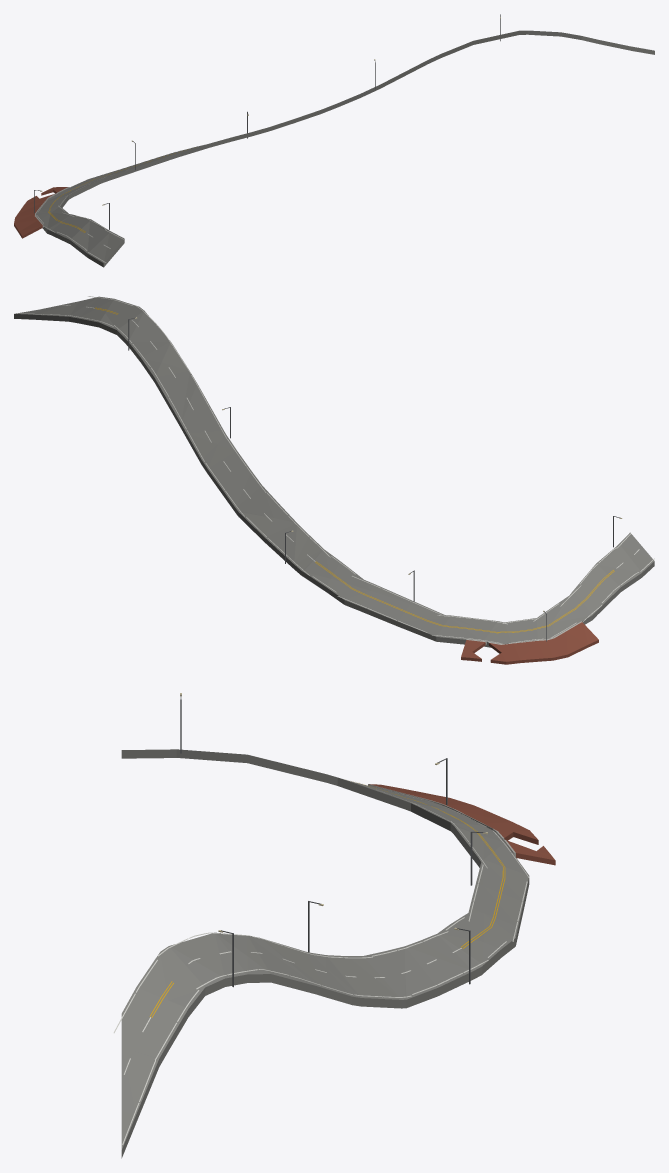
3 renders of one model, top to bottom at view 1: azimuth 30°, elevation 25°; view 2: azimuth 150°, elevation 25°; view 3: azimuth 270°, elevation 25°, orthographic. The views are drawn at different scales.
Size of the model in its own units: 167 by 40.9 by 56.14.
